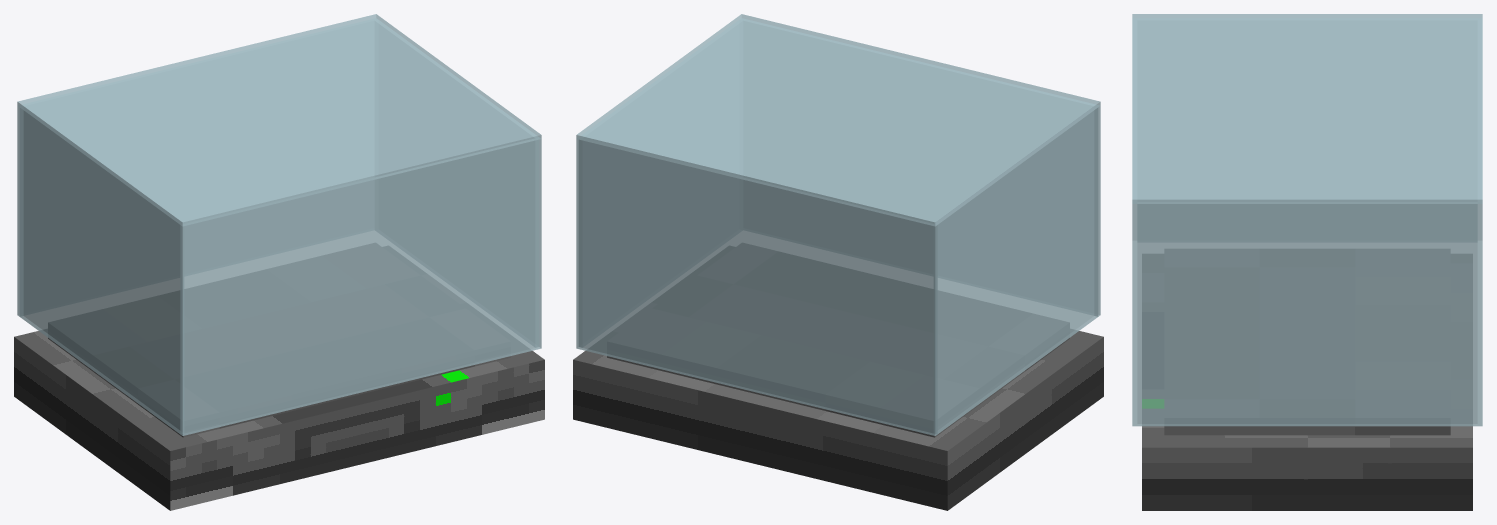
File: food_display_case.glb
3 views of the same model, side by side, from view 1: azimuth 30°, elevation 25°; view 2: azimuth 150°, elevation 25°; view 3: azimuth 270°, elevation 25° (orthographic). The views are drawn at different scales.
Visible parts, largest first — view 1: Glass_Hood, Display_Base; view 2: Glass_Hood, Display_Base; view 3: Glass_Hood, Display_Base.
Part boxes in pixels (<box>): Glass_Hood: <box>17,14,541,435</box>; Display_Base: <box>14,243,544,510</box>; Glass_Hood: <box>576,14,1100,435</box>; Display_Base: <box>573,243,1103,510</box>; Glass_Hood: <box>1132,14,1482,426</box>; Display_Base: <box>1142,249,1472,510</box>.
Size of what is drawn, in the model's own units: 1.44 by 1.07 by 1.1.
2 materials, 2 textured.
